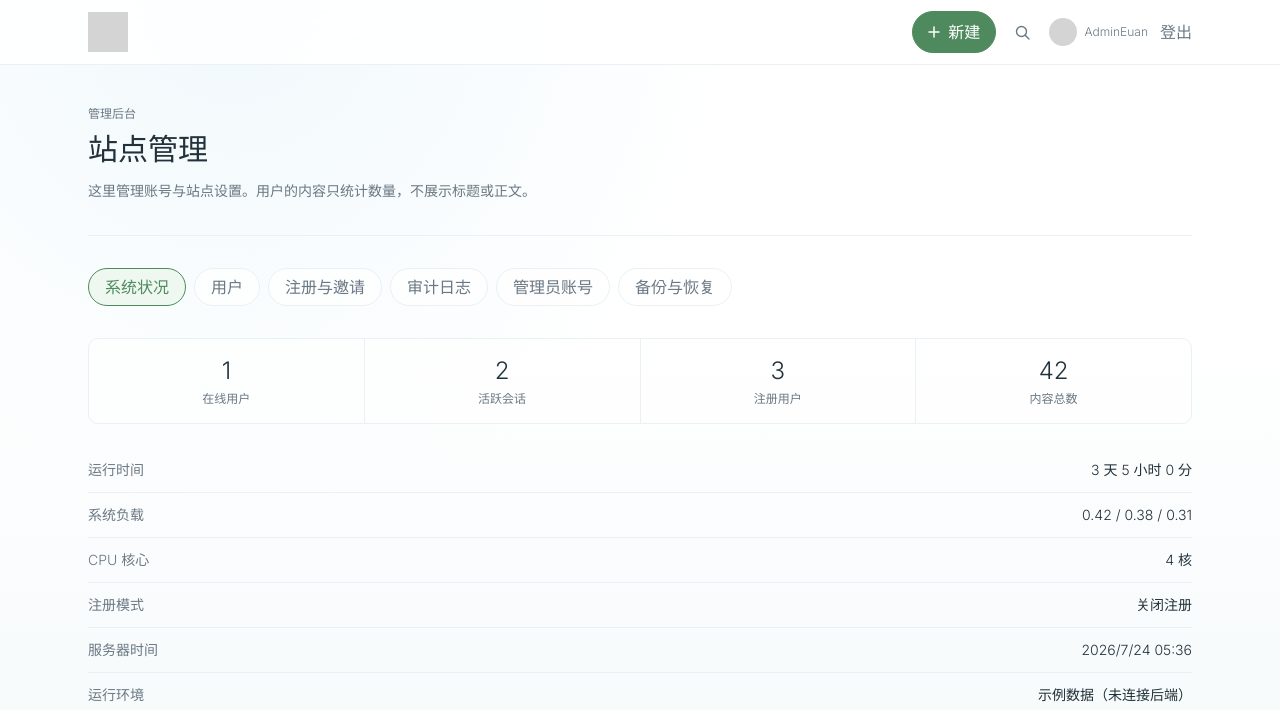
Test: admin console › offers the three registration modes
Click the button "注册与邀请" at coordinates (325, 287), box [268,268,382,306]
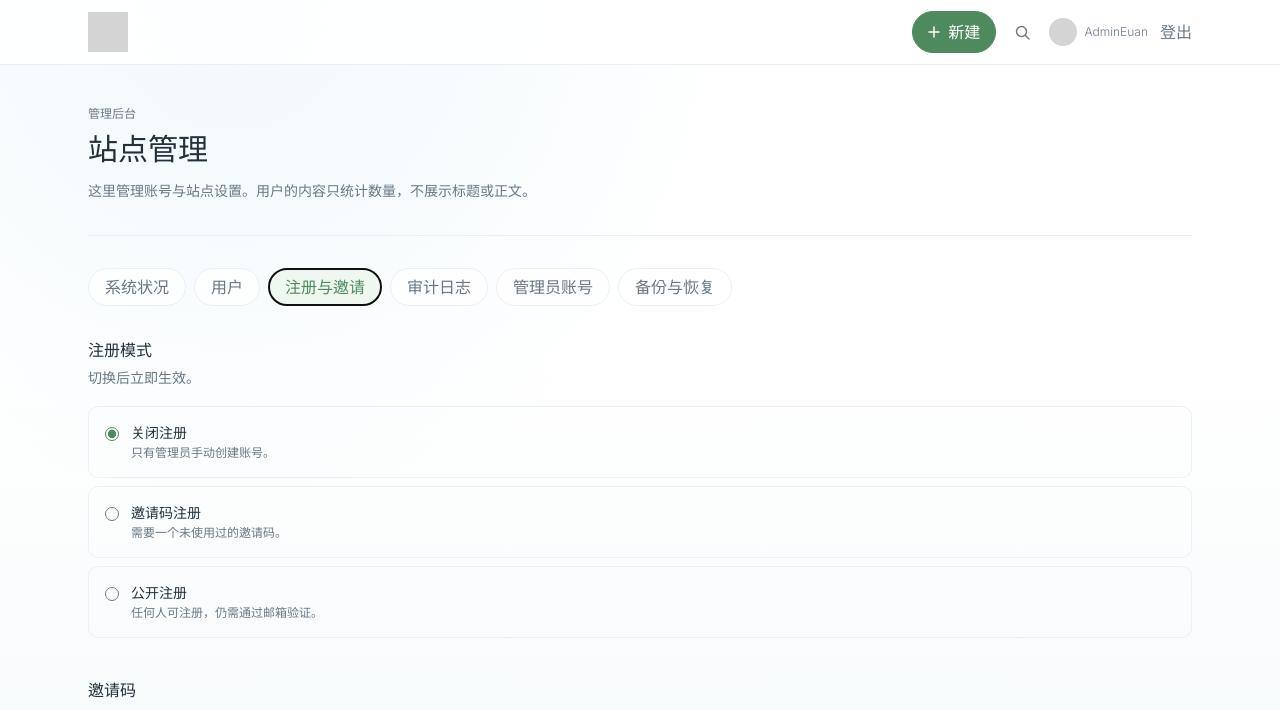
expect the text "关闭注册" is shown: met, box [131,424,187,441]
expect the text "邀请码注册" is shown: met, box [131,504,201,521]
expect the text "公开注册" is shown: met, box [131,584,187,601]
